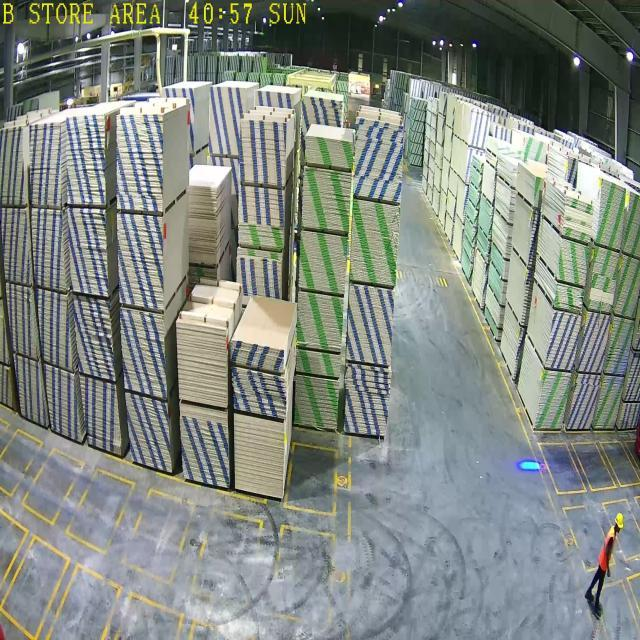stack: (353, 115, 405, 204), (350, 198, 400, 290), (234, 412, 286, 500), (346, 283, 394, 366), (342, 362, 391, 440), (301, 166, 354, 236), (297, 228, 349, 298), (230, 368, 288, 419), (297, 292, 344, 354), (294, 373, 339, 432), (544, 310, 584, 373), (534, 370, 572, 432), (586, 245, 620, 314), (577, 309, 612, 376), (596, 177, 627, 251), (229, 337, 285, 376), (566, 373, 602, 431), (603, 315, 636, 378), (304, 133, 354, 172), (593, 375, 625, 431), (562, 193, 595, 246), (557, 236, 591, 287), (295, 348, 340, 380), (554, 281, 586, 315)
